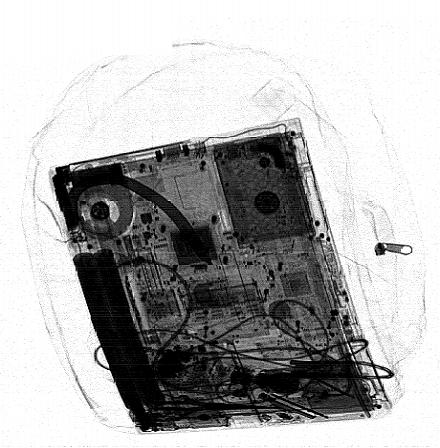Scissors: (162, 393, 287, 423)
